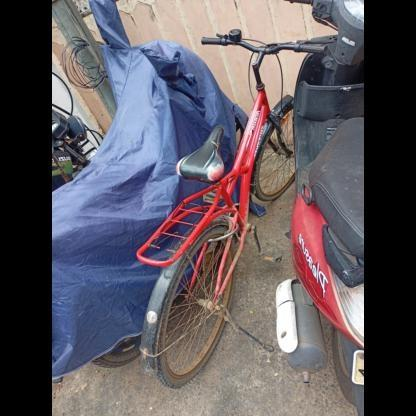Bicycle: (119, 0, 296, 403)
